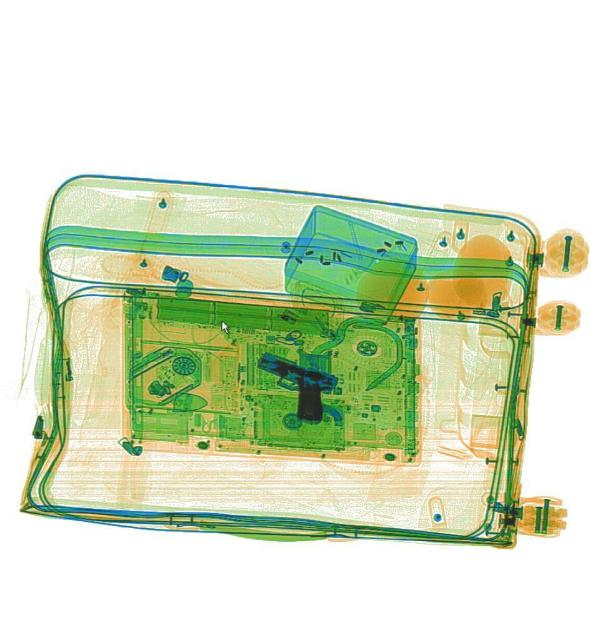Gun: (241, 346, 337, 424)
